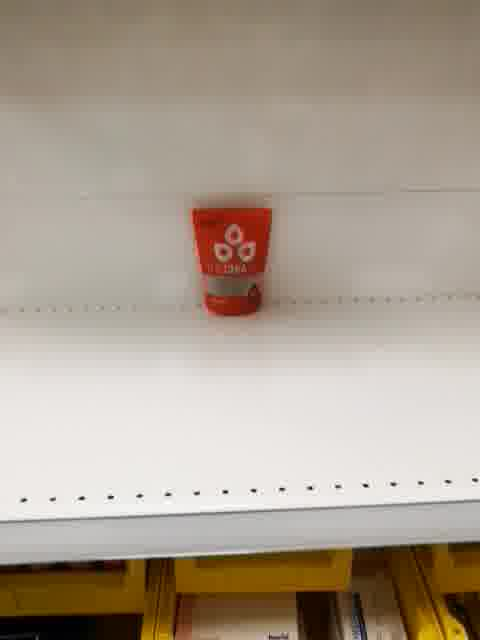whitechia: (190, 203, 274, 321)
